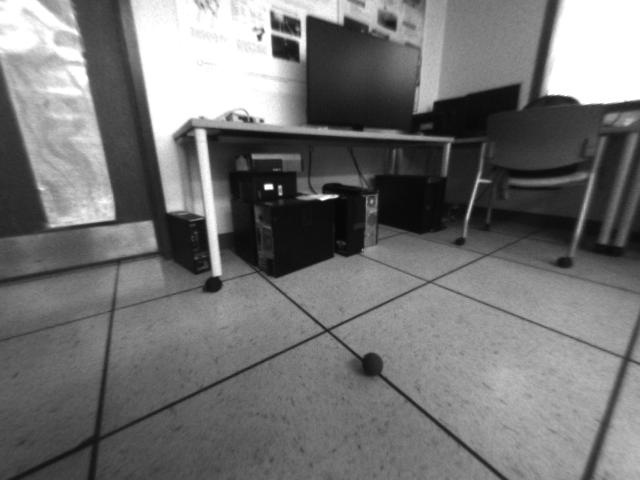dogtoy: (354, 345, 390, 382)
